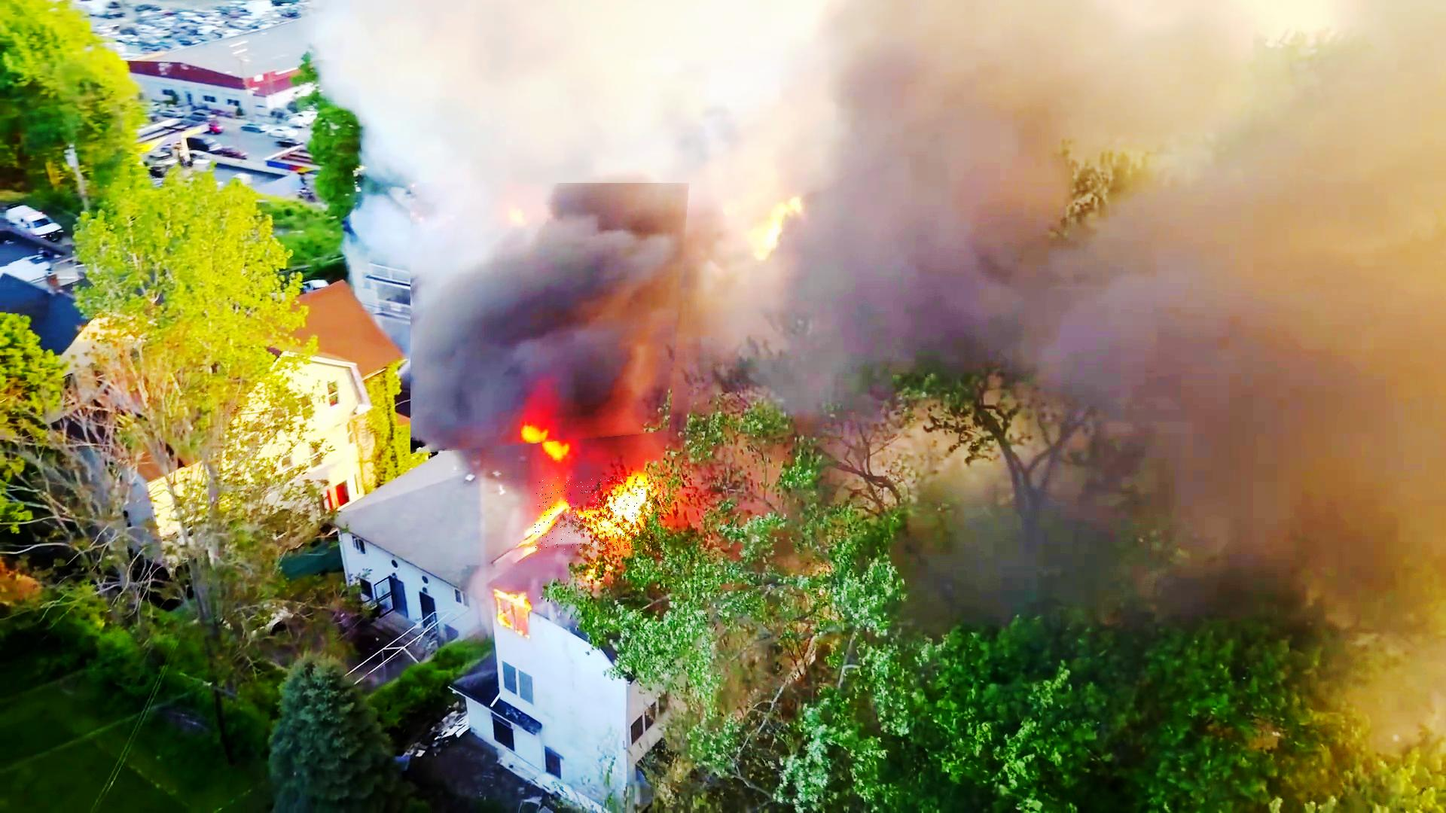fire: (535, 477, 662, 550)
smoke: (411, 183, 691, 456)
